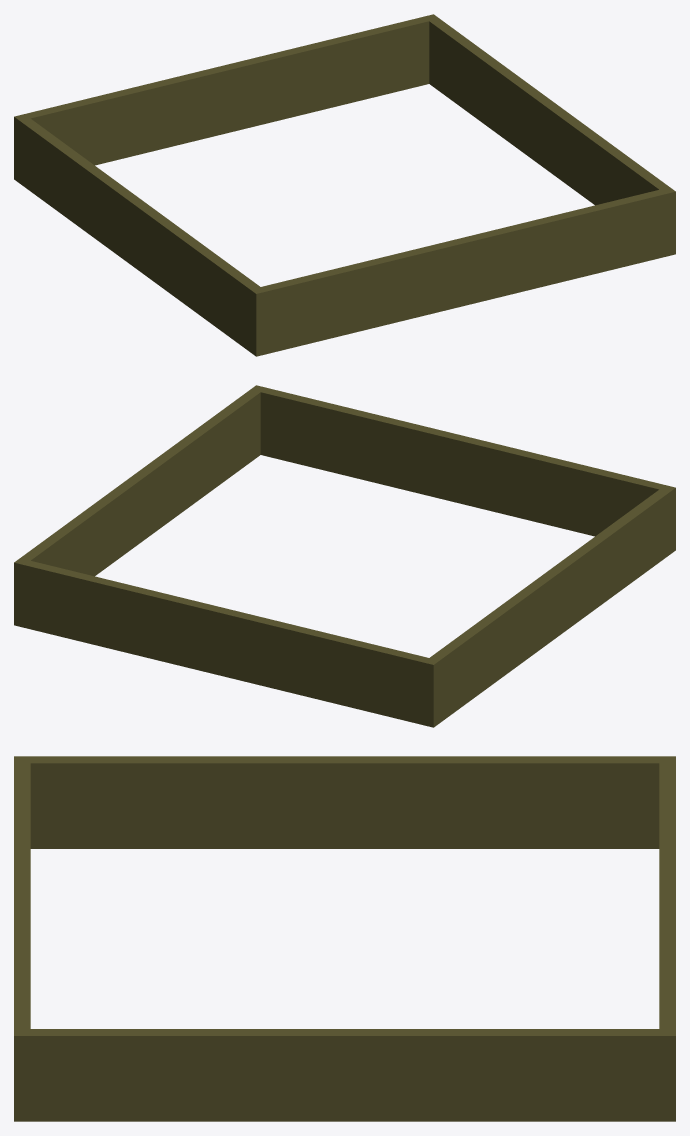
The model's file is wallsv2.obj.
3 views of the same model, one above another, from view 1: azimuth 30°, elevation 25°; view 2: azimuth 150°, elevation 25°; view 3: azimuth 270°, elevation 25° (orthographic). The views are drawn at different scales.
Visible parts, largest first — view 1: Walls; view 2: Walls; view 3: Walls.
Part boxes in pixels (x1,y1,x2,y2): Walls: [14, 14, 675, 356]; Walls: [14, 385, 675, 727]; Walls: [14, 756, 675, 1121].
Bounding box in the file's own units: 2.1 × 0.3 × 2.1.
